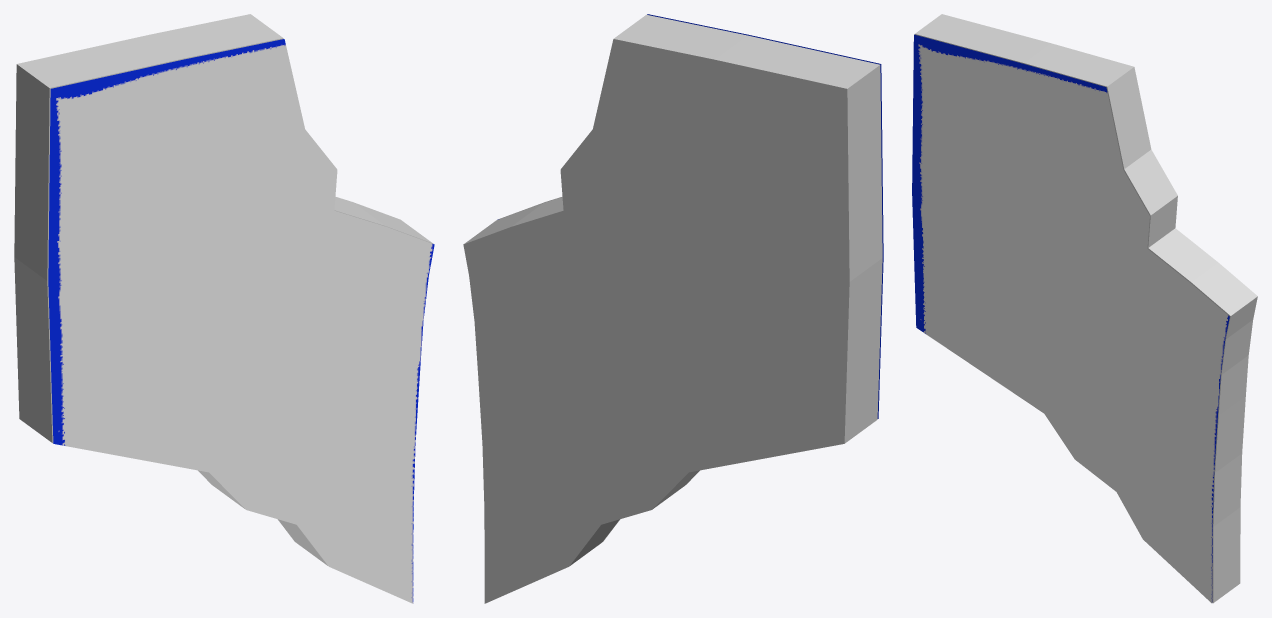
The picture shows the model from 3 angles, left to right: view 1: azimuth 30°, elevation 25°; view 2: azimuth 150°, elevation 25°; view 3: azimuth 330°, elevation 25°; orthographic projection. The views are drawn at different scales.
Parts seen in each view (by area): view 1: Out_1_1, Out_1_0; view 2: Out_1_0, Out_1_1; view 3: Out_1_1, Out_1_0.
Part boxes in pixels (x1,y1,x2,y2): Out_1_1: (48, 39, 434, 603); Out_1_0: (14, 14, 433, 565); Out_1_0: (463, 14, 882, 603); Out_1_1: (497, 14, 883, 541); Out_1_1: (912, 34, 1229, 603); Out_1_0: (914, 14, 1257, 603).
Bounding box in the file's own units: 3.38 × 5.04 × 0.515.
Materials: 2 (1 with a texture image).
